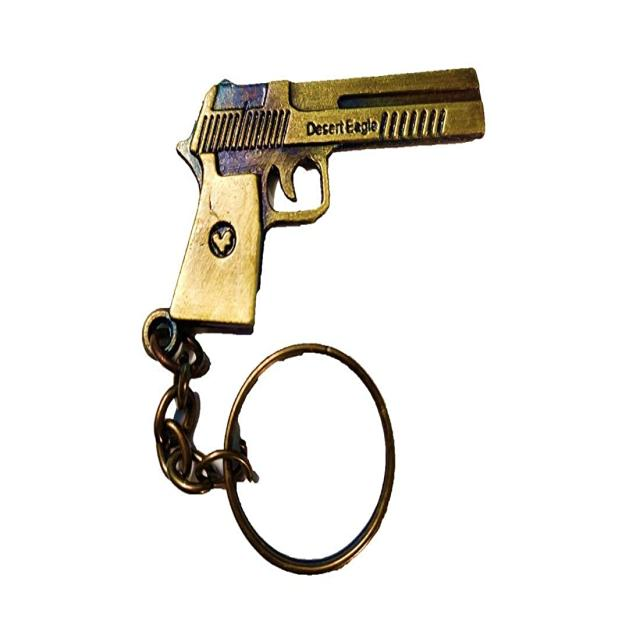handgun: (150, 44, 498, 346)
